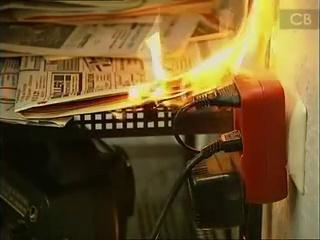Fire: (118, 1, 266, 117)
